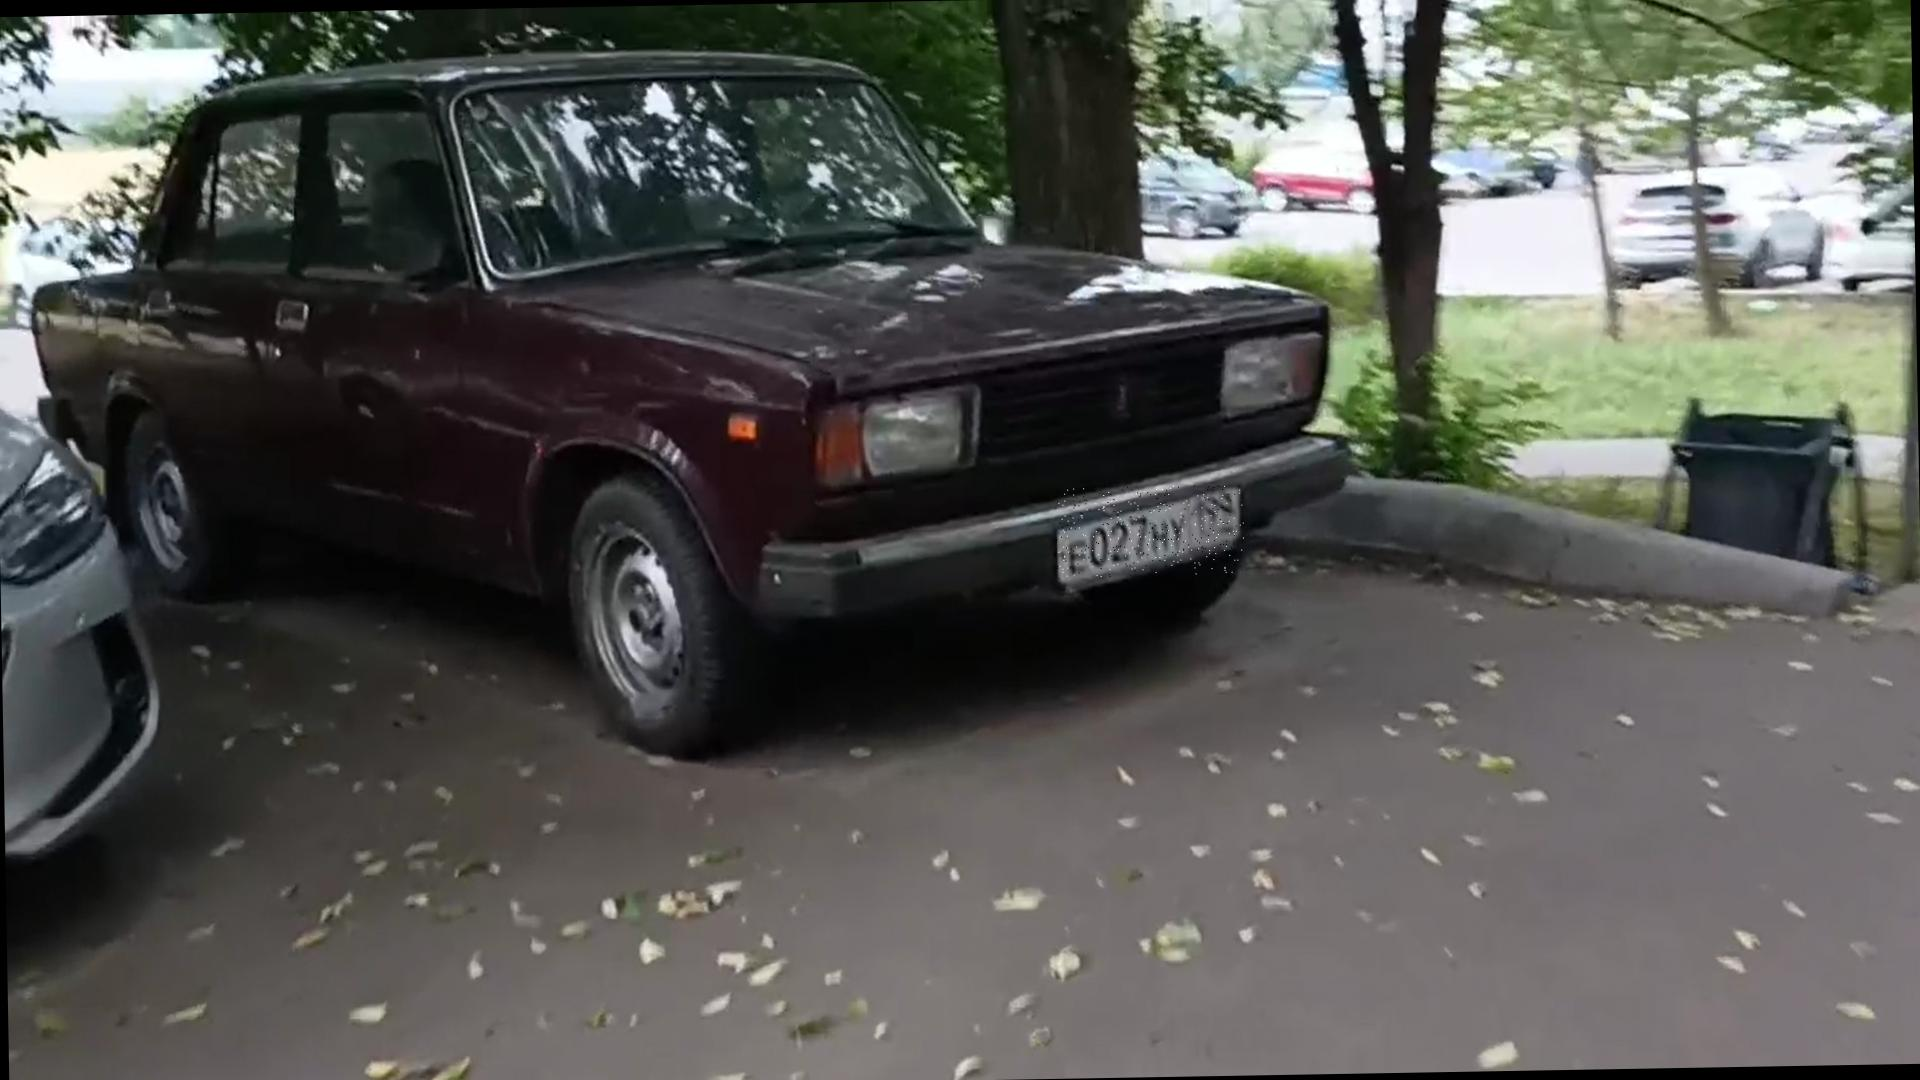plate: (1059, 486, 1247, 579)
